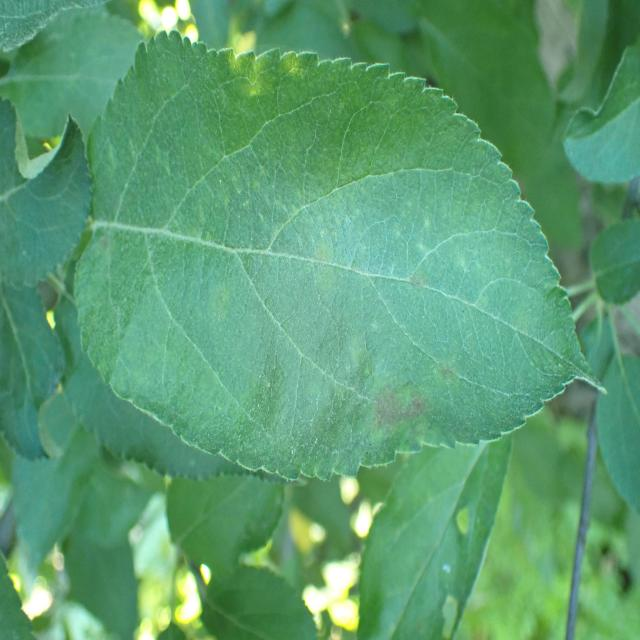scab: (84, 80, 552, 463)
